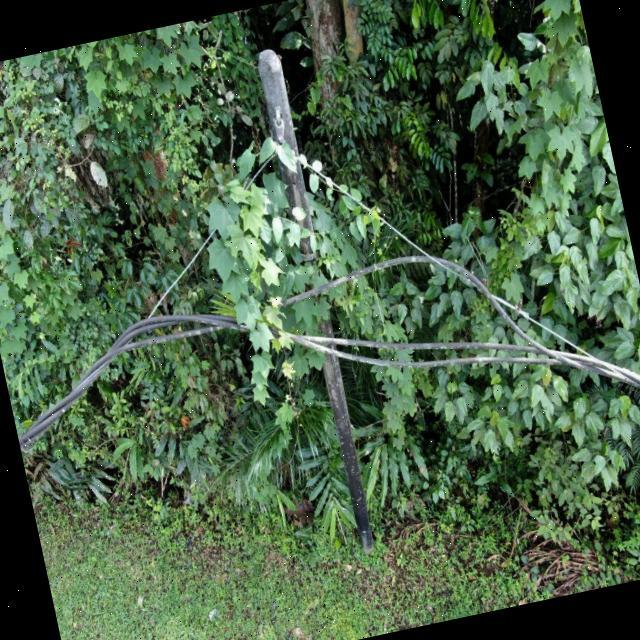critical vegetation: (168, 111, 434, 466)
